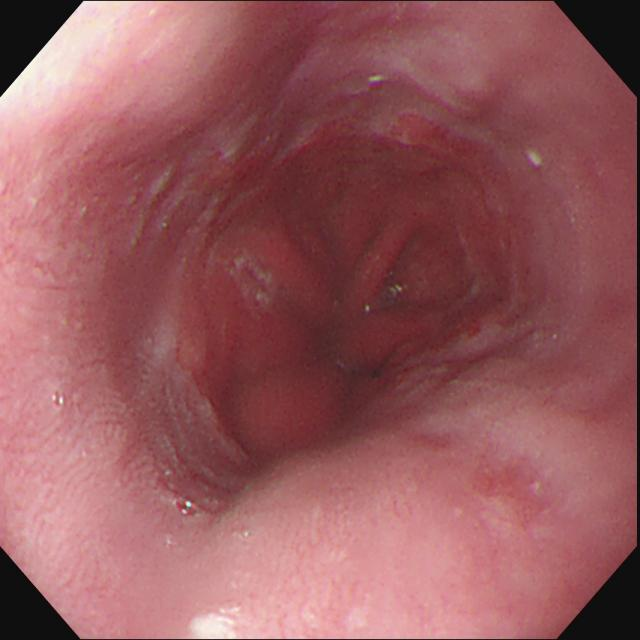I: (199, 102, 489, 457)
J: (129, 170, 179, 247), (230, 252, 278, 312), (189, 613, 239, 640), (527, 151, 544, 174)
